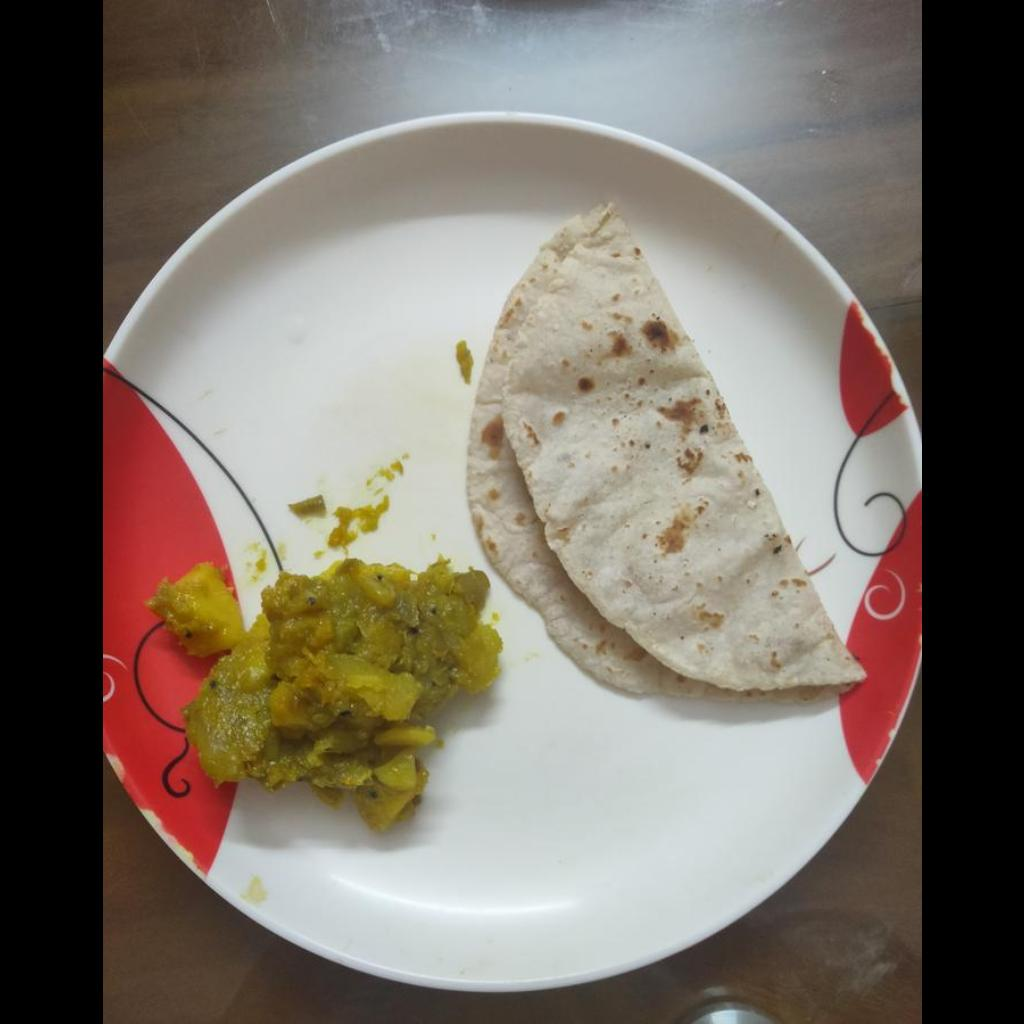ruti: (467, 203, 868, 705)
vegetable: (148, 556, 510, 824)
